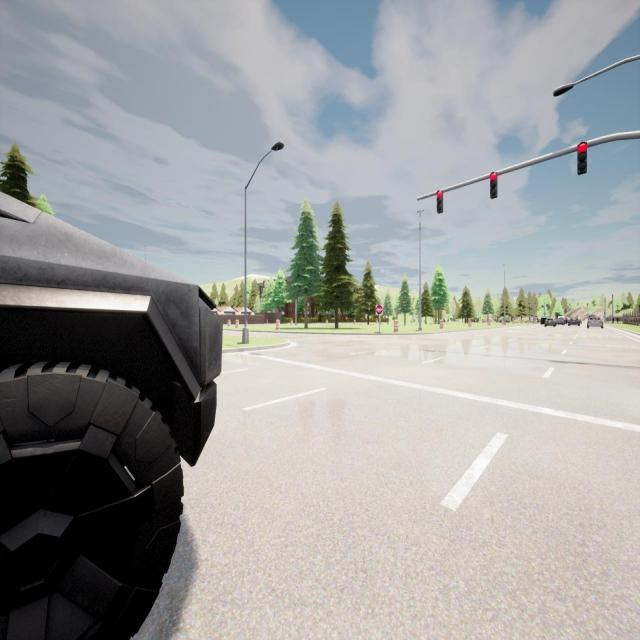Pedestrian: (612, 315, 615, 324), (616, 316, 618, 324)
Traffic_Signs: (376, 306, 382, 315)
Vehicle: (1, 191, 223, 640), (586, 316, 604, 328), (568, 317, 580, 326), (544, 318, 556, 327), (558, 316, 566, 324), (540, 316, 546, 324), (556, 319, 564, 325)
traffic_light: (577, 142, 587, 176), (490, 172, 497, 199), (437, 190, 443, 214)
